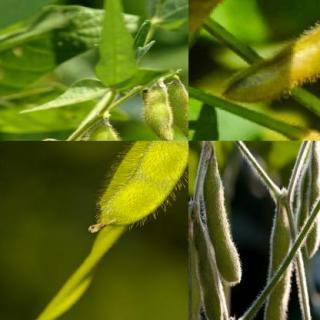soya: (91, 140, 188, 232), (222, 14, 319, 101), (203, 160, 242, 282), (263, 216, 292, 320), (192, 222, 222, 320), (144, 88, 177, 140), (305, 140, 319, 258), (168, 82, 188, 140), (188, 243, 202, 319)
